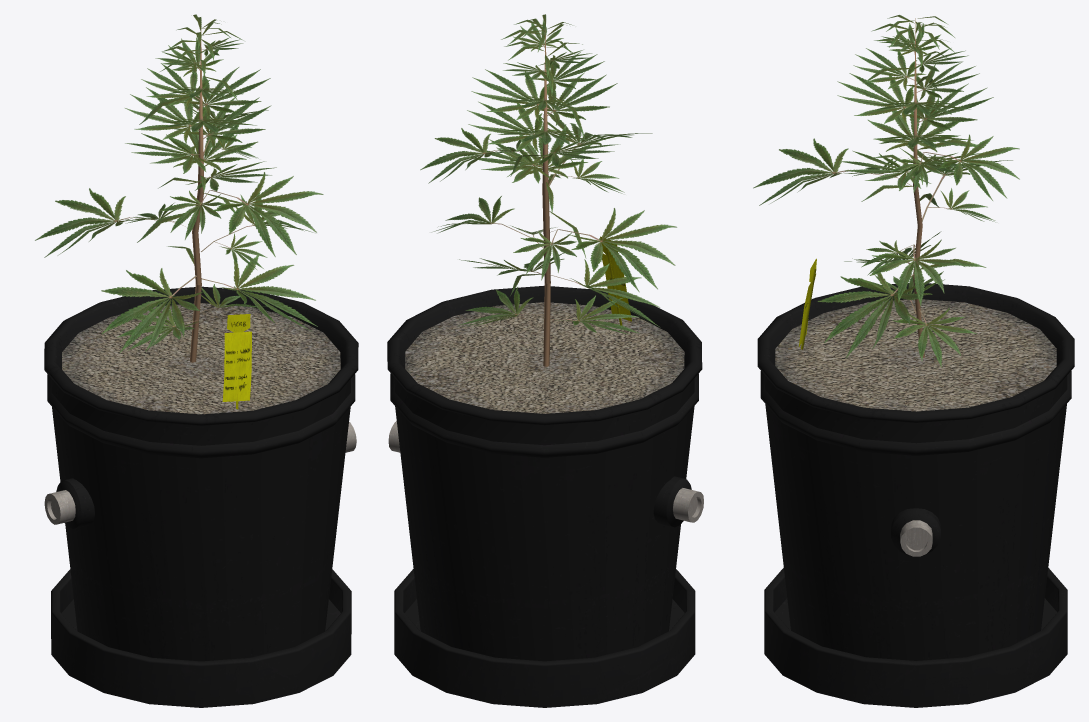
File: cannabis_plant_small_1.glb
The picture shows the model from 3 angles, left to right: view 1: azimuth 30°, elevation 25°; view 2: azimuth 150°, elevation 25°; view 3: azimuth 270°, elevation 25°; orthographic projection.
Parts seen in each view (by area): view 1: Weed Plant Small_a; view 2: Weed Plant Small_a; view 3: Weed Plant Small_a.
Boxes of the visible parts, box(x1,y1,x2,y2) form: Weed Plant Small_a: box(35, 14, 358, 707); Weed Plant Small_a: box(387, 14, 703, 707); Weed Plant Small_a: box(753, 15, 1074, 707).
Bounding box in the file's own units: 0.5098 × 0.9966 × 0.4868.
Materials: 5 (5 with a texture image).
